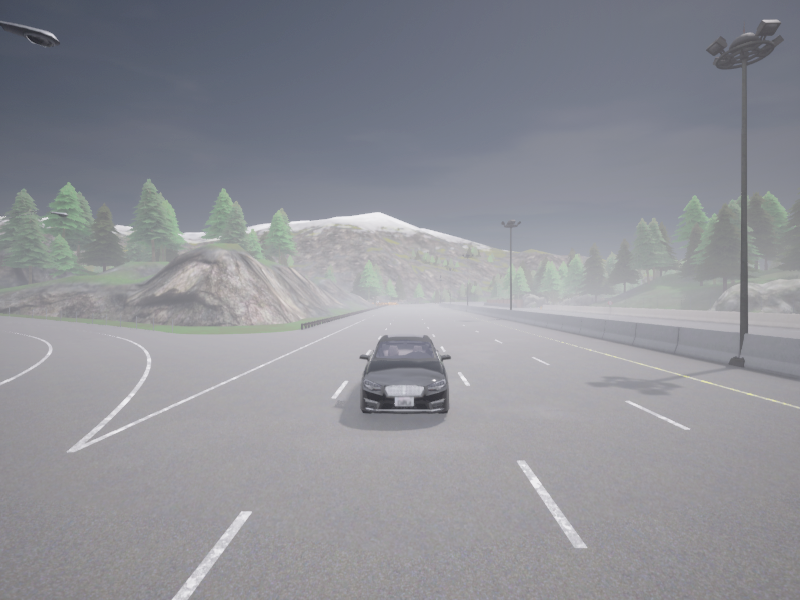vehicle: (359, 334, 450, 413)
